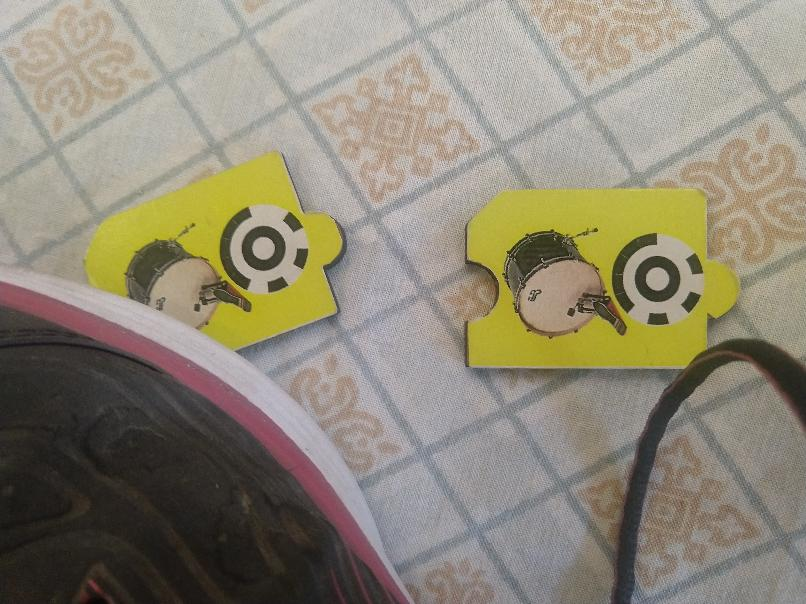bumbo: (82, 144, 344, 383), (463, 189, 740, 374)
